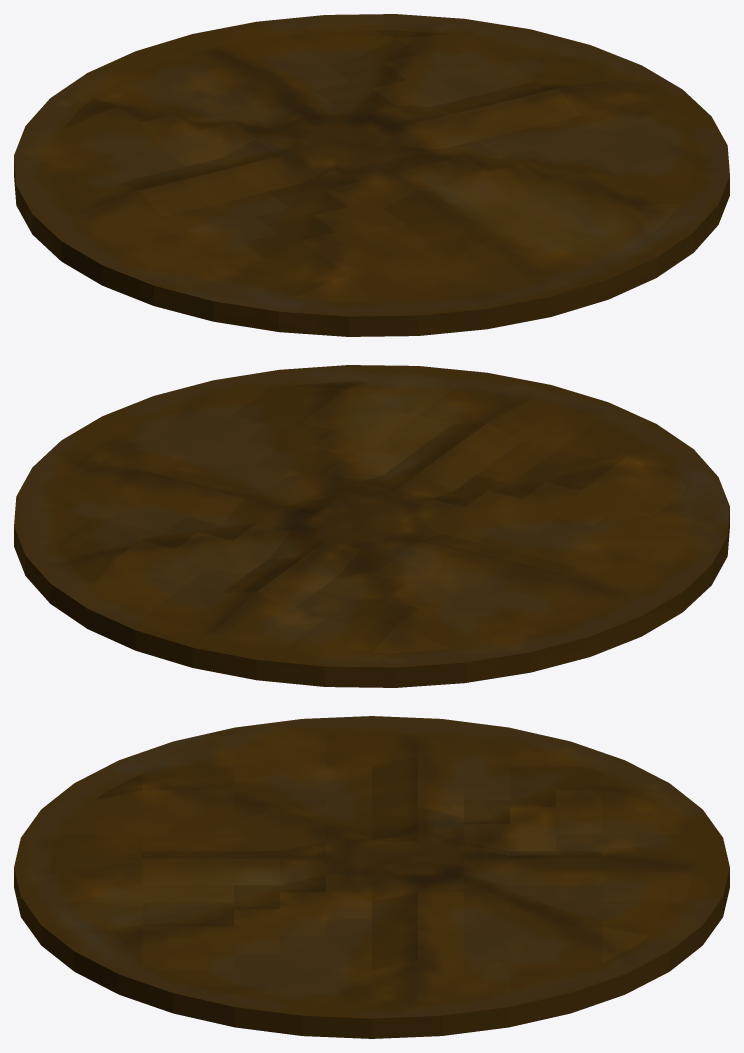
The model's file is luk.fbx.
3 renders of one model, top to bottom at view 1: azimuth 30°, elevation 25°; view 2: azimuth 150°, elevation 25°; view 3: azimuth 270°, elevation 25°, orthographic.
Visible parts, largest first — view 1: Cube; view 2: Cube; view 3: Cube.
Part boxes in pixels (<box>): Cube: <box>14,14,729,336</box>; Cube: <box>14,365,729,687</box>; Cube: <box>14,716,729,1038</box>.
Size of the model in its own units: 223 by 10.1 by 223.
1 material, 1 textured.
